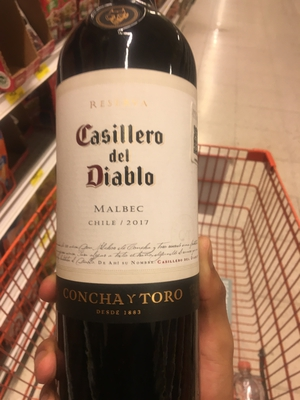casillero del diablo malbec: (55, 18, 206, 400)
